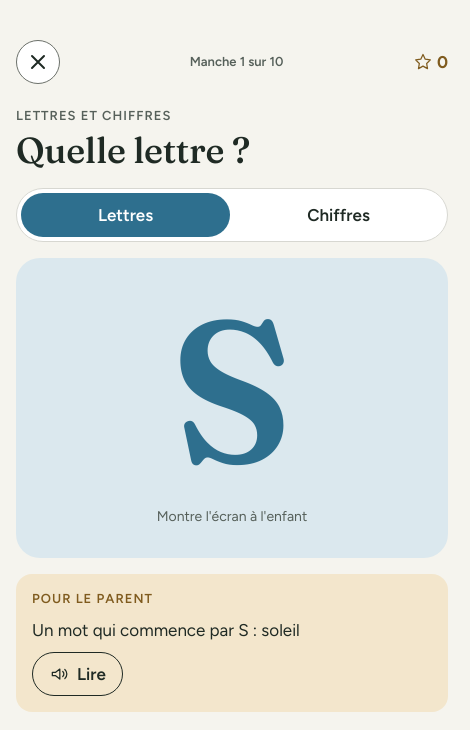
Scenario: bouton « Lire » › lit la consigne et s’arrête au changement de manche
This screenshot has width=470, height=730.
Click the button "Lire".
click(77, 674)  # box [32,652,123,696]
(page scrolled)
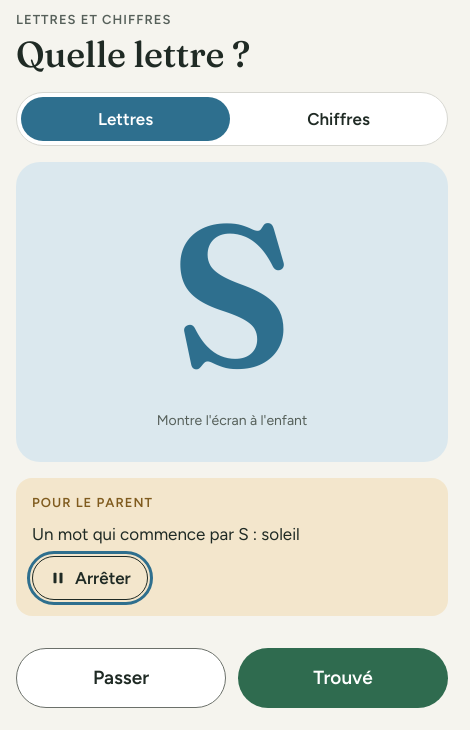
Check: the button with aria-label "Arrêter la lecture" is shown, box [32,556,148,600]
Click the button "Trouvé".
click(343, 678)  # box [238,648,448,708]
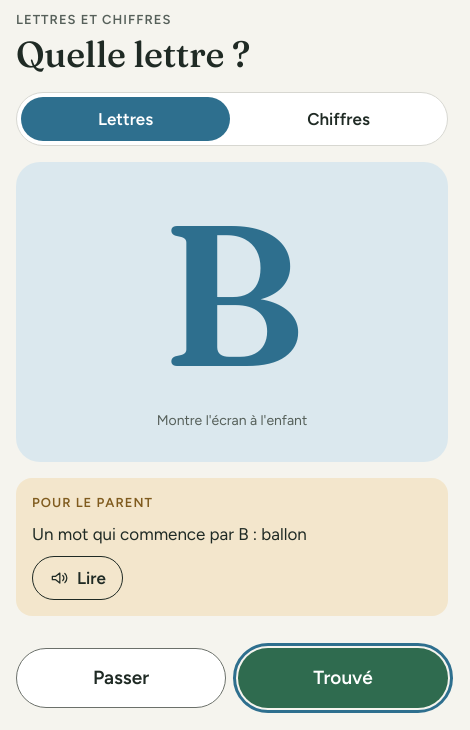
Check: the button "Lire" is shown, box [32,556,123,600]
